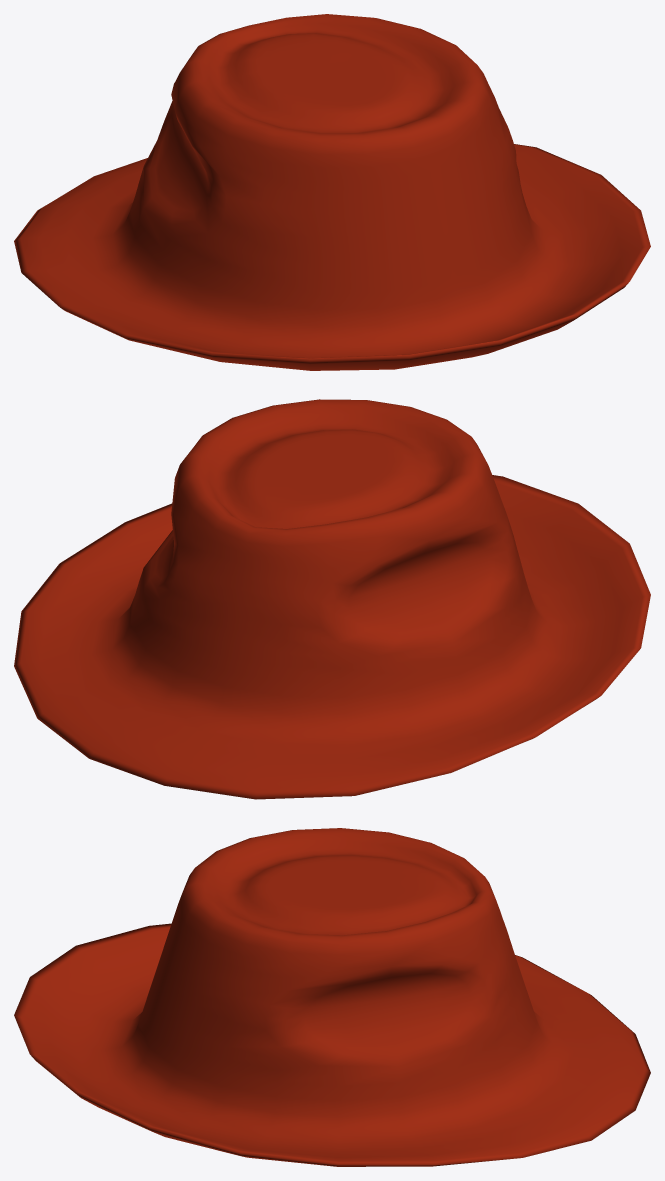
Rendered from S_LowHat_01.fbx.
The picture shows the model from 3 angles, top to bottom: view 1: azimuth 30°, elevation 25°; view 2: azimuth 150°, elevation 25°; view 3: azimuth 270°, elevation 25°; orthographic projection. The views are drawn at different scales.
Parts seen in each view (by area): view 1: S_LowHat_1; view 2: S_LowHat_1; view 3: S_LowHat_1.
Part boxes in pixels (x1,y1,x2,y2): S_LowHat_1: [14, 14, 650, 370]; S_LowHat_1: [14, 399, 650, 799]; S_LowHat_1: [14, 828, 650, 1166].
Bounding box in the file's own units: 73.78 × 26.31 × 79.88.
